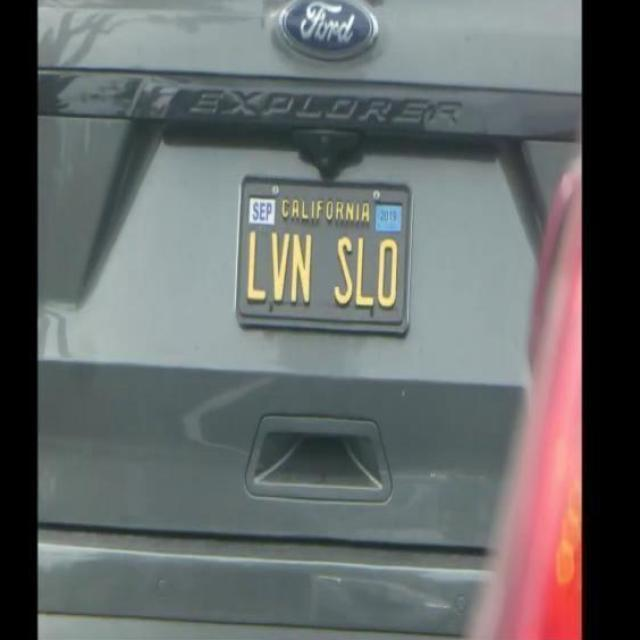license-plate: (203, 159, 448, 344)
